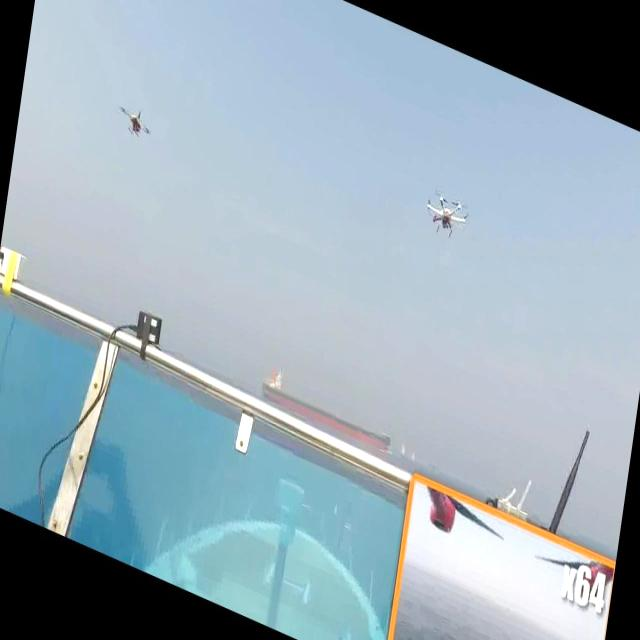drone: (419, 179, 471, 250), (116, 97, 154, 147)
